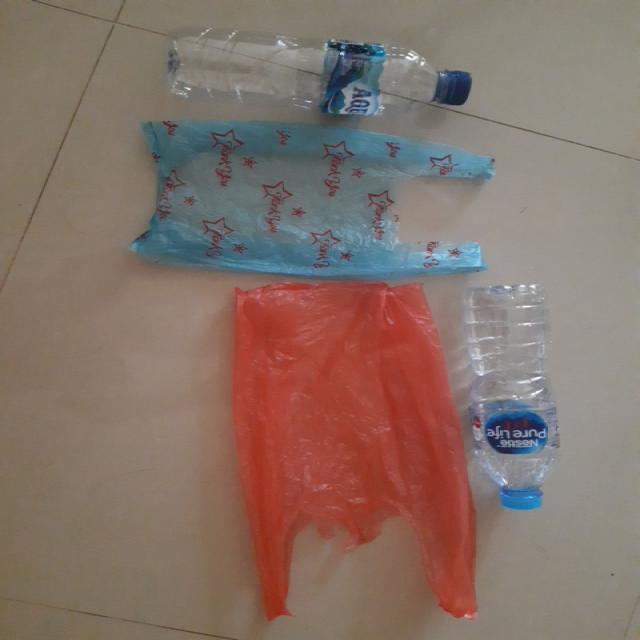PET Bottle: (144, 0, 506, 146), (461, 234, 573, 517)
